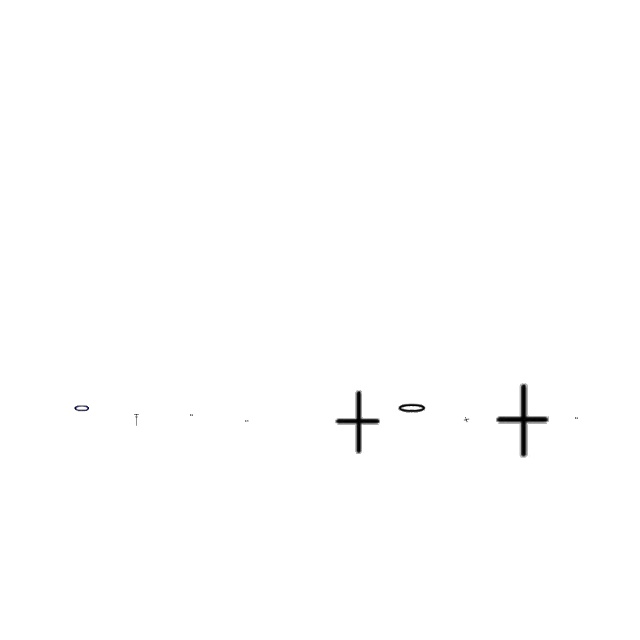chain: (396, 402, 428, 416), (73, 402, 91, 414), (190, 414, 194, 416), (245, 420, 249, 422), (576, 417, 578, 419)
double: (492, 383, 552, 459), (332, 390, 382, 456), (464, 416, 470, 424)
double treble: (134, 414, 140, 426)
